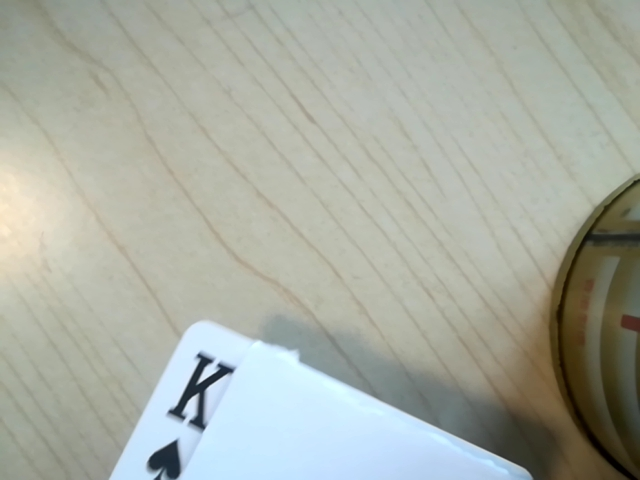ht k: (135, 345, 239, 480)
